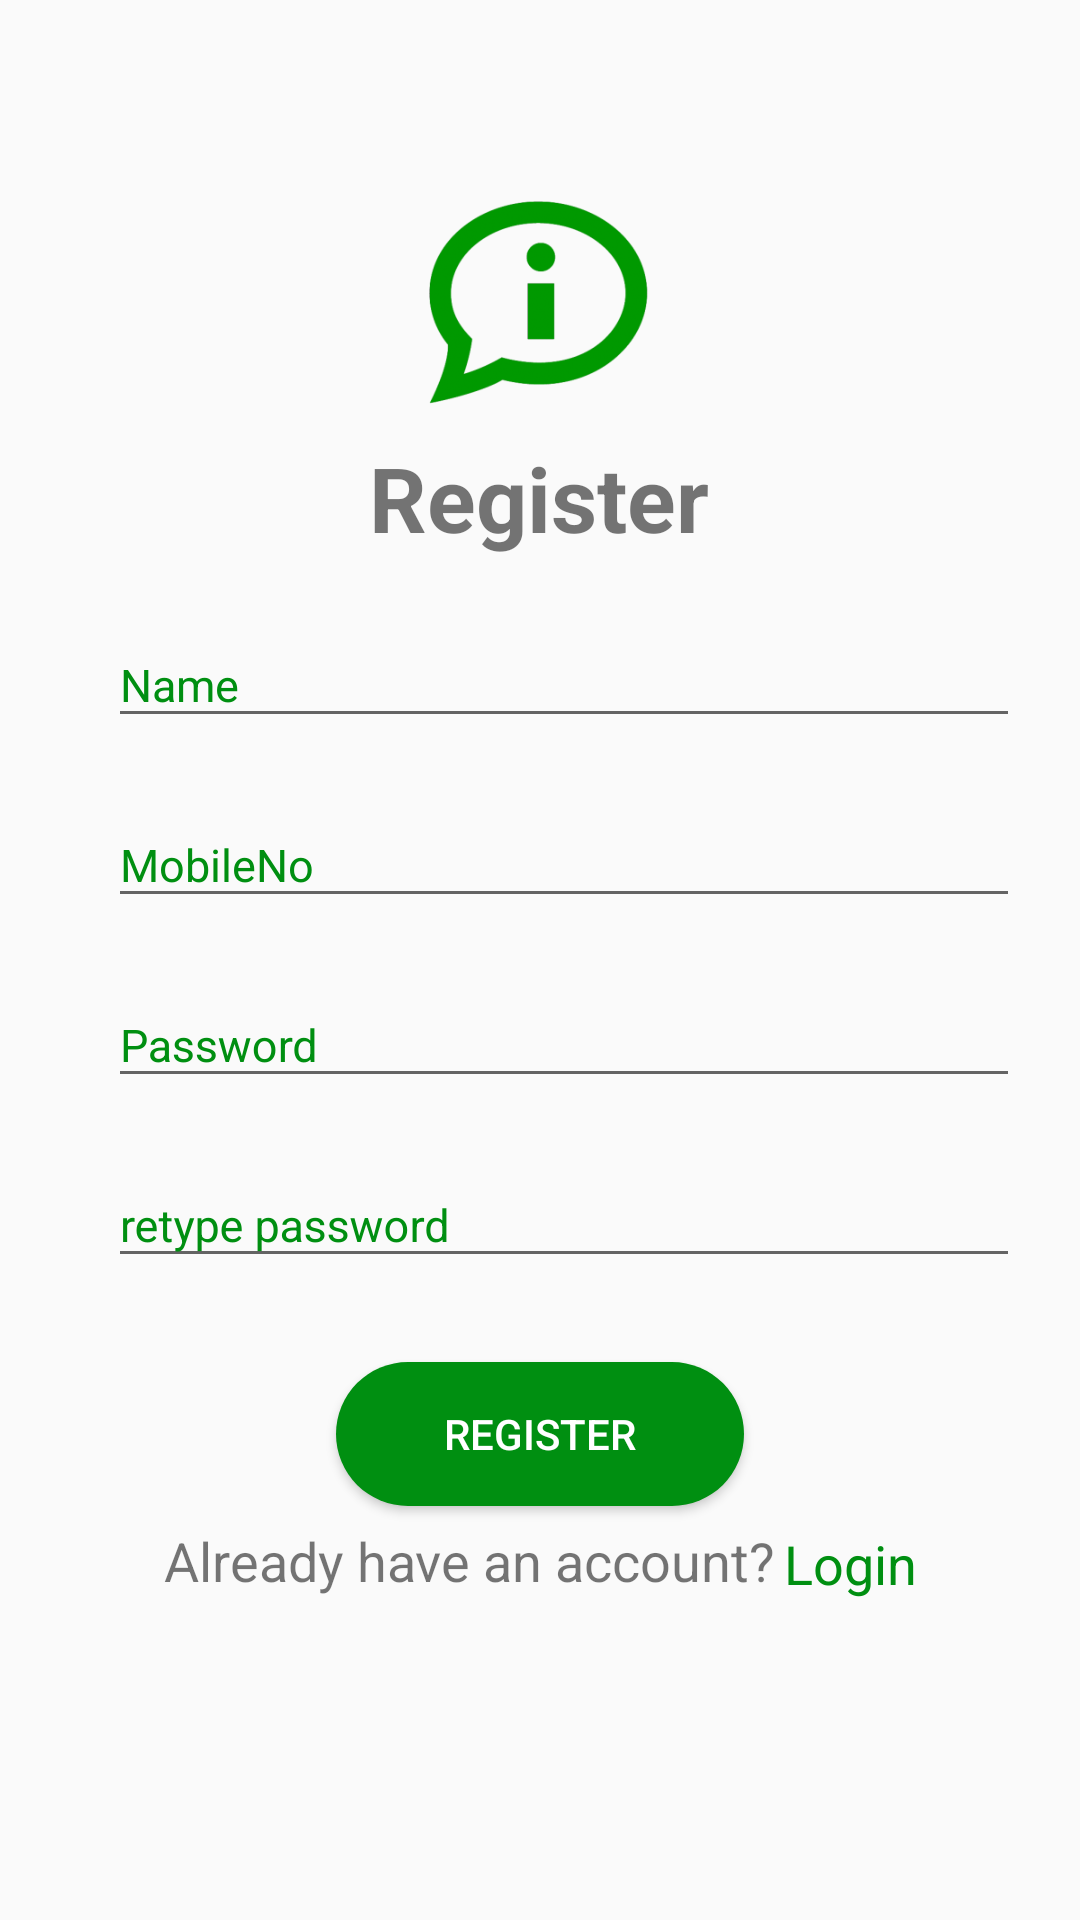

Icons on this 1080px×1920px Android screen, each with its box as (x1, y1, x2, y2):
informer: (429, 201, 648, 403)
